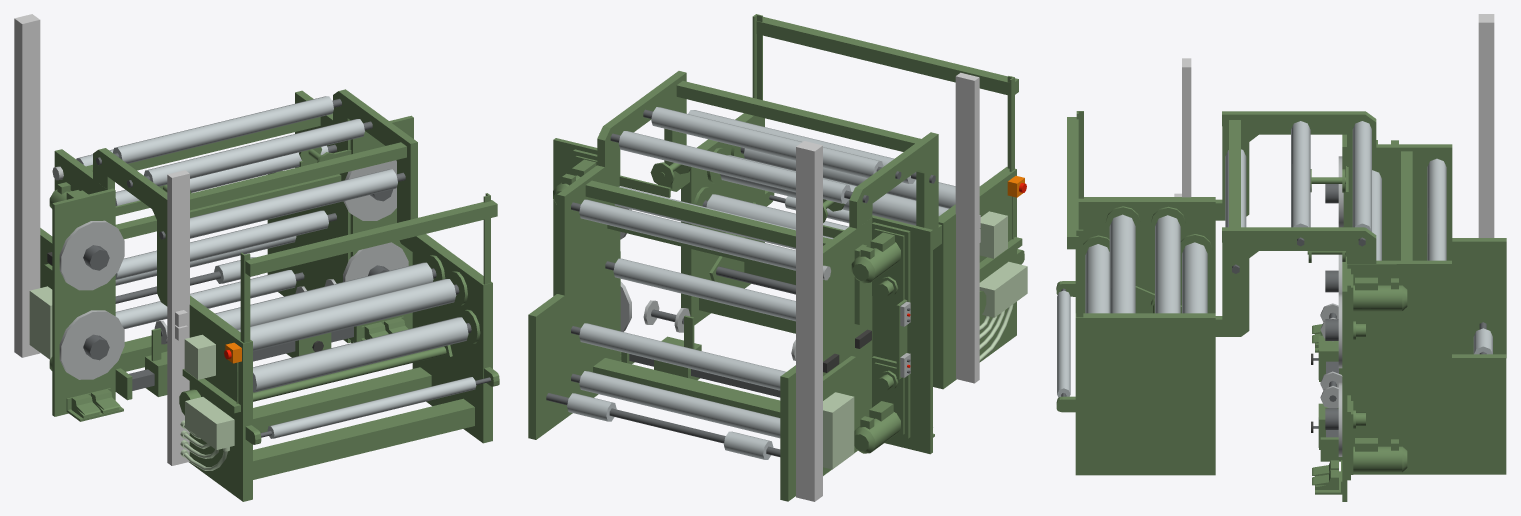
Rendered from EdgeTrimming.FBX.
3 views of the same model, side by side, from view 1: azimuth 30°, elevation 25°; view 2: azimuth 150°, elevation 25°; view 3: azimuth 270°, elevation 25° (orthographic). The views are drawn at different scales.
Visible parts, largest first — view 1: Object_05_EdgeTrimming; view 2: Object_05_EdgeTrimming; view 3: Object_05_EdgeTrimming.
Boxes of the visible parts, x1=… form: Object_05_EdgeTrimming: x1=14, y1=14, x2=499, y2=501; Object_05_EdgeTrimming: x1=528, y1=14, x2=1027, y2=501; Object_05_EdgeTrimming: x1=1056, y1=14, x2=1506, y2=501.
Size of the model in its own units: 29.83 by 26.49 by 32.59.
